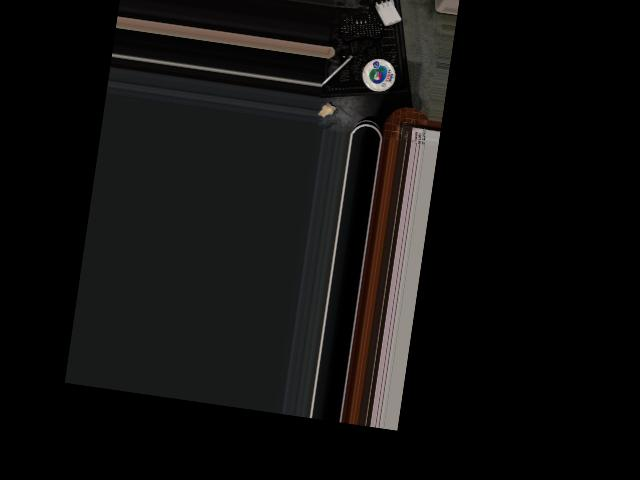cotage: (359, 55, 404, 96)
